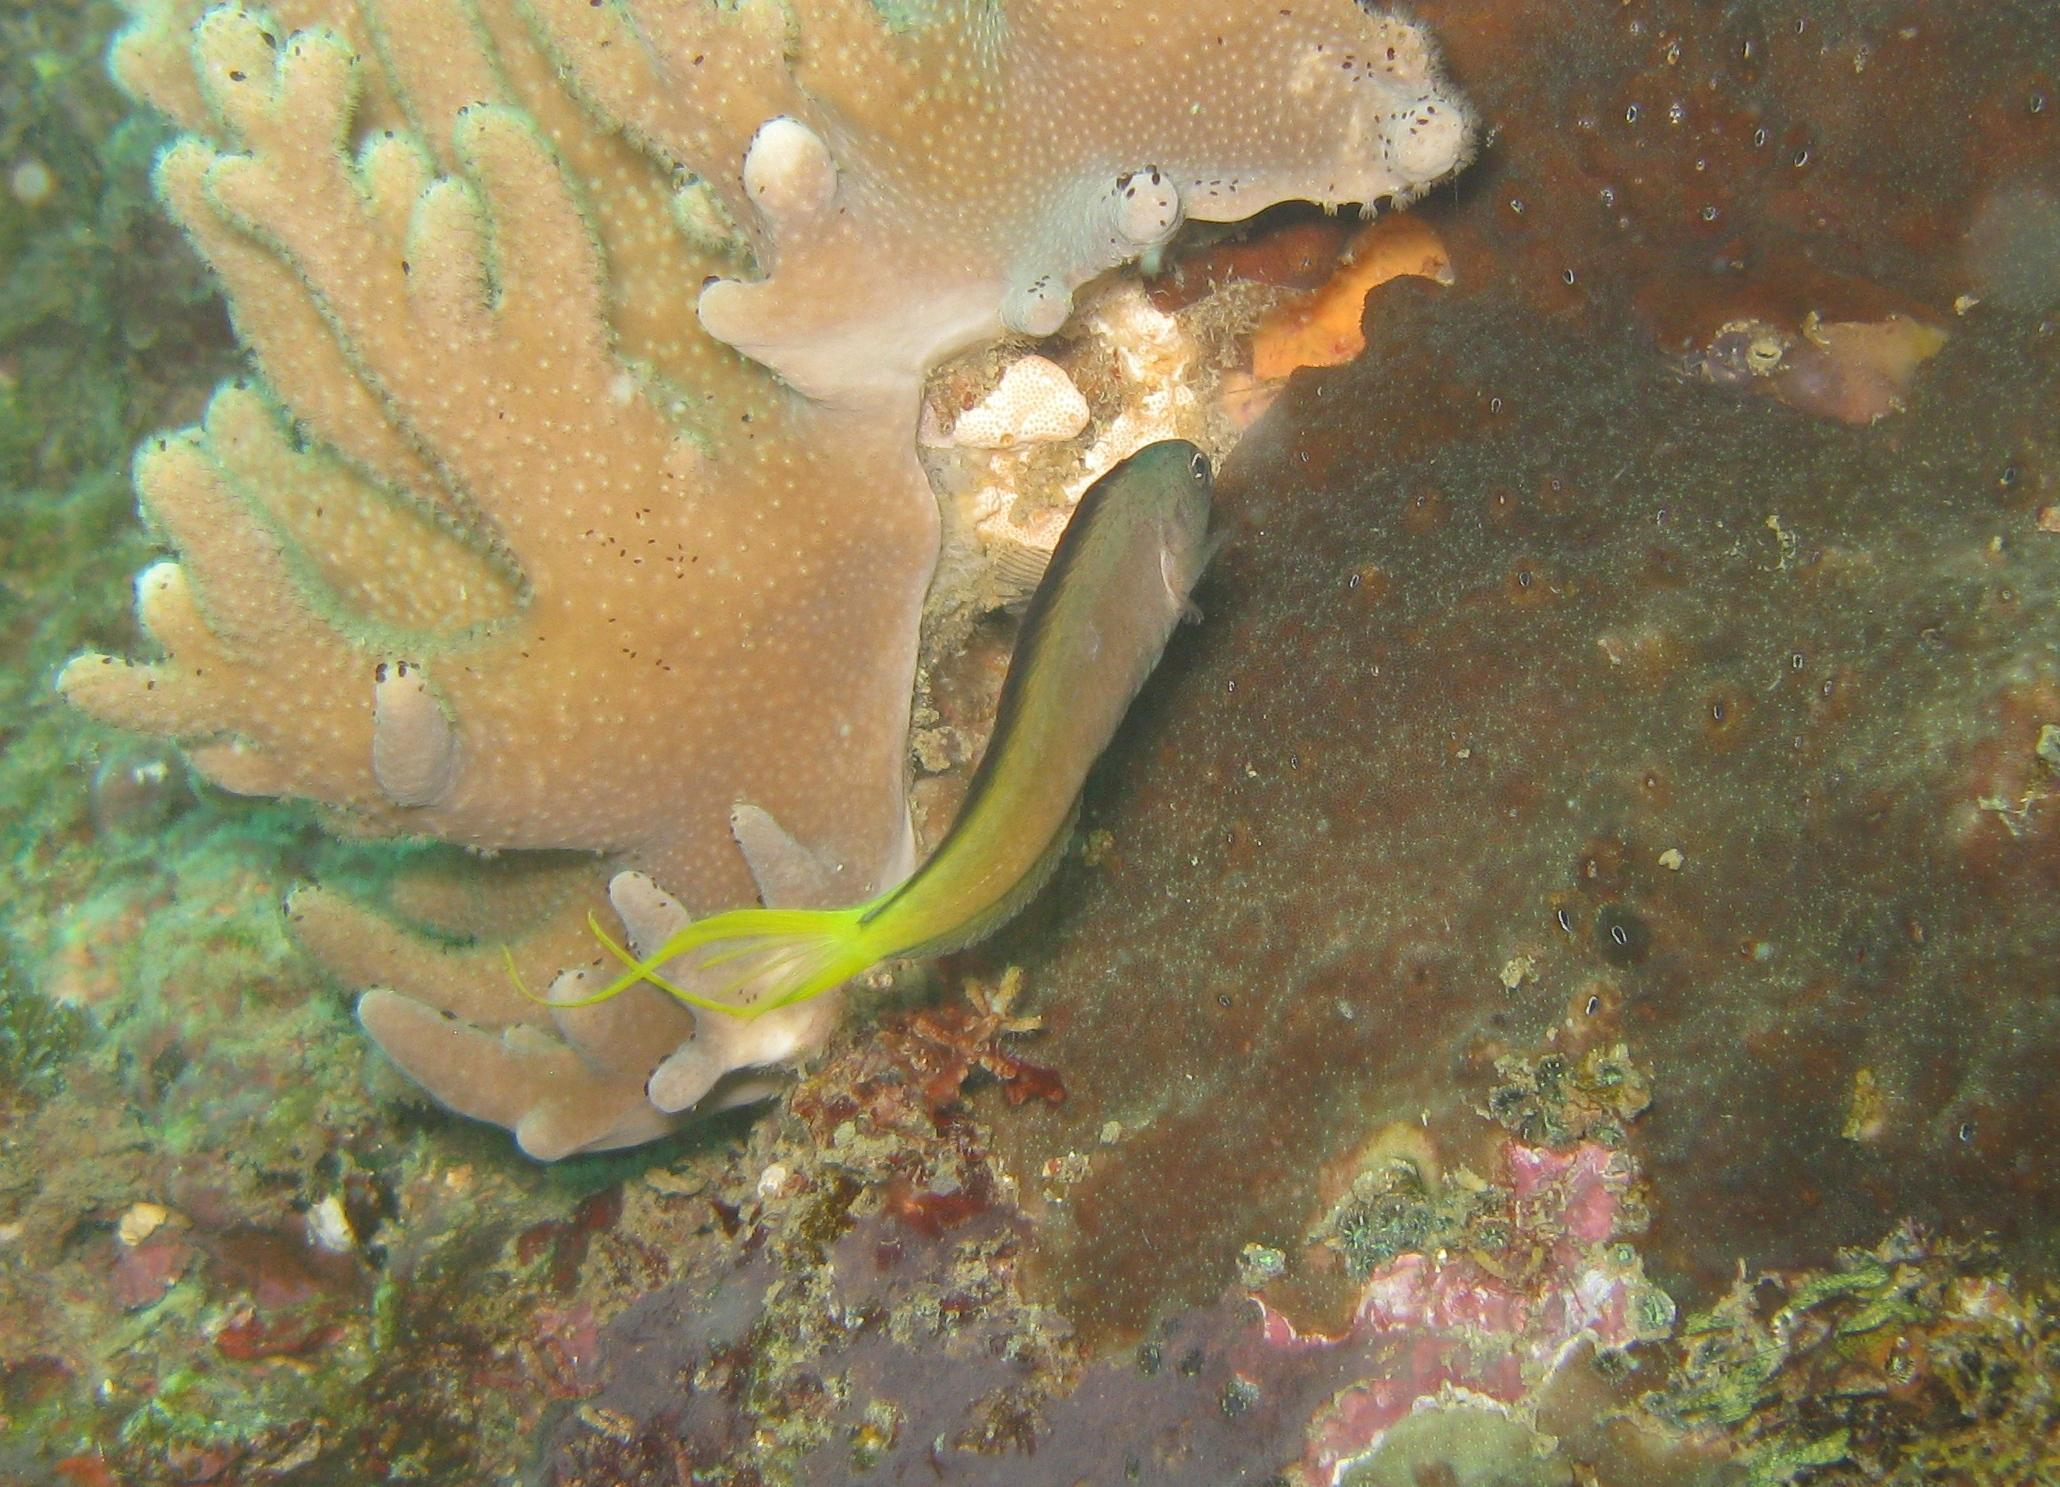Fish: (475, 405, 1286, 1116)
